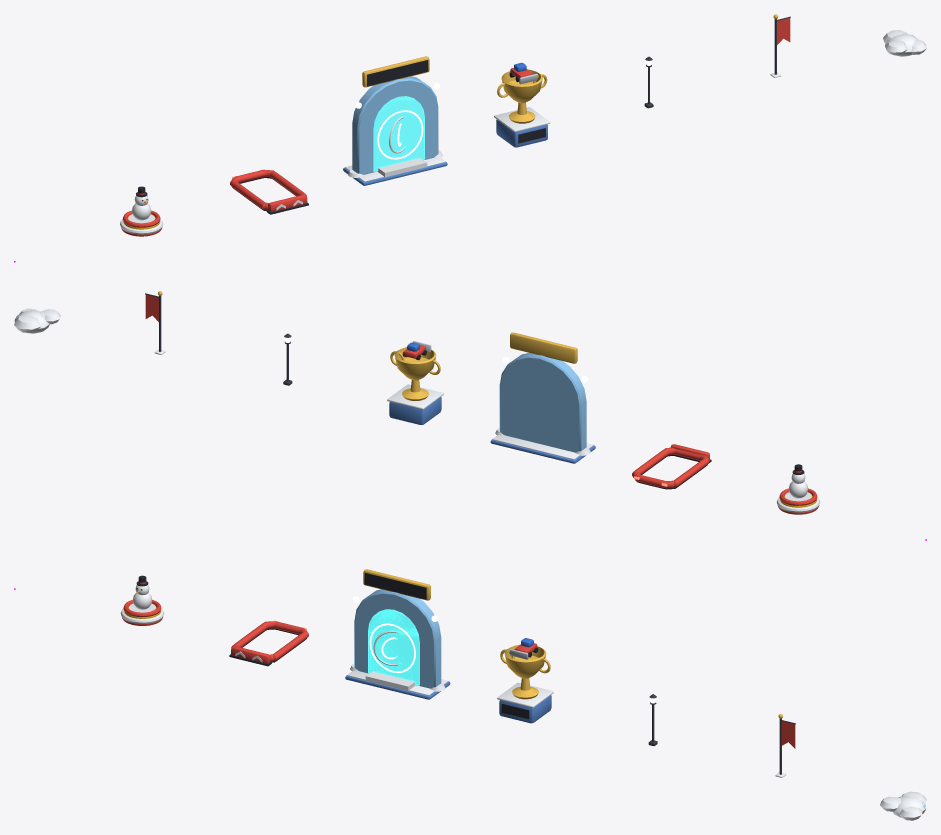
The model's file is AR_Props.fbx.
3 renders of one model, top to bottom at view 1: azimuth 30°, elevation 25°; view 2: azimuth 150°, elevation 25°; view 3: azimuth 330°, elevation 25°, orthographic.
Parts seen in each view (by area): view 1: Portal__Ice__8FC8F5IC, Portal__Swirl__2FC6C0NET15, Trophy__Gold__F2C14EME, Bumper__TintBumper__E8483DSP, SnowBank__Snow__F6FAFFSP, Portal__SignFaceIn__262A33SP, Trophy__Plinth__5B8ED9SP, Trophy__Snow__F6FAFFSP; view 2: Portal__Ice__8FC8F5IC, Bumper__TintBumper__E8483DSP, Trophy__Gold__F2C14EME, Portal__Sign__F2C14ESP, SnowBank__Snow__F6FAFFSP, Trophy__Plinth__5B8ED9SP, Portal__Snow__F6FAFFSP, Trophy__Snow__F6FAFFSP; view 3: Portal__Ice__8FC8F5IC, Portal__Swirl__2FC6C0NET15, Trophy__Gold__F2C14EME, Bumper__TintBumper__E8483DSP, SnowBank__Snow__F6FAFFSP, Portal__SignFaceIn__262A33SP, Trophy__Plinth__5B8ED9SP, Trophy__Snow__F6FAFFSP, Portal__PortalPad__F2F6FBSPT100.
Part boxes in pixels (x1,y1,x2,y2): Portal__Ice__8FC8F5IC: (352,76,438,174); Portal__Swirl__2FC6C0NET15: (373,96,424,171); Trophy__Gold__F2C14EME: (497,69,547,123); Bumper__TintBumper__E8483DSP: (230,170,307,211); SnowBank__Snow__F6FAFFSP: (883,30,926,56); Portal__SignFaceIn__262A33SP: (367,60,428,86); Trophy__Plinth__5B8ED9SP: (496,119,547,147); Trophy__Snow__F6FAFFSP: (494,107,550,132); Portal__Ice__8FC8F5IC: (499,353,586,452); Bumper__TintBumper__E8483DSP: (632,444,709,488); Trophy__Gold__F2C14EME: (390,347,440,400); Portal__Sign__F2C14ESP: (510,332,577,363); SnowBank__Snow__F6FAFFSP: (14,308,60,333); Trophy__Plinth__5B8ED9SP: (389,397,441,424); Portal__Snow__F6FAFFSP: (492,427,593,459); Trophy__Snow__F6FAFFSP: (387,384,443,409); Portal__Ice__8FC8F5IC: (354,589,441,688); Portal__Swirl__2FC6C0NET15: (368,609,419,685); Trophy__Gold__F2C14EME: (500,644,550,699); Bumper__TintBumper__E8483DSP: (231,621,308,663); SnowBank__Snow__F6FAFFSP: (880,791,926,820); Portal__SignFaceIn__262A33SP: (364,573,426,599); Trophy__Plinth__5B8ED9SP: (499,695,551,723); Trophy__Snow__F6FAFFSP: (497,682,553,707); Portal__PortalPad__F2F6FBSPT100: (365,671,415,690).
Size of the model in its own units: 172 by 20.65 by 13.68.
